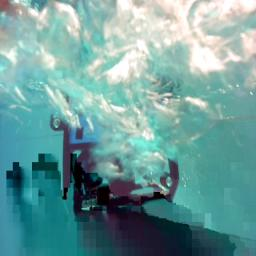front: (49, 115, 180, 205)
